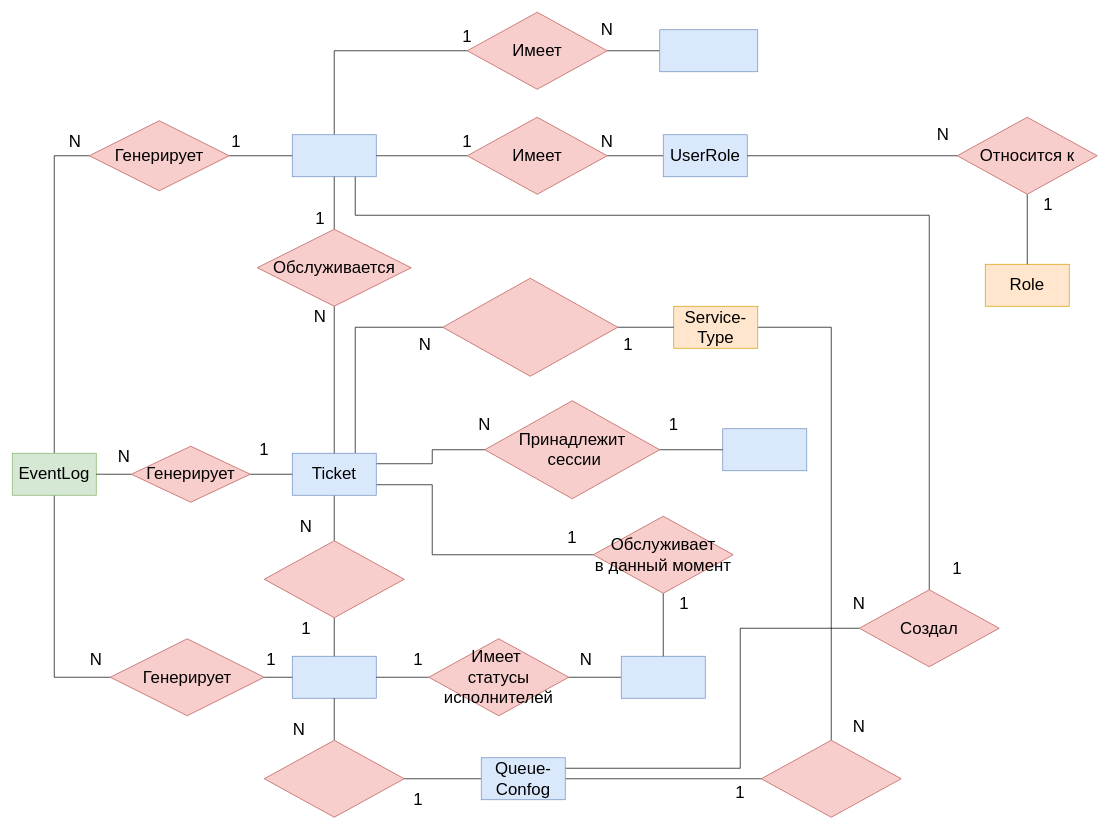
The diagram is 1110 pixels wide and 830 high, and some of its shapes have lost their labels. Each missing label, with the centre of its shape:
Client-Session: (x=764, y=449)
Executor-State: (x=663, y=677)
Queue-Session: (x=334, y=677)
User: (x=334, y=155)
UserSession: (x=708, y=50)
Имеет сессию: (x=334, y=778)
Имеет тип услуги: (x=530, y=327)
Имеет типы услуг: (x=831, y=778)
Содержит: (x=334, y=579)
